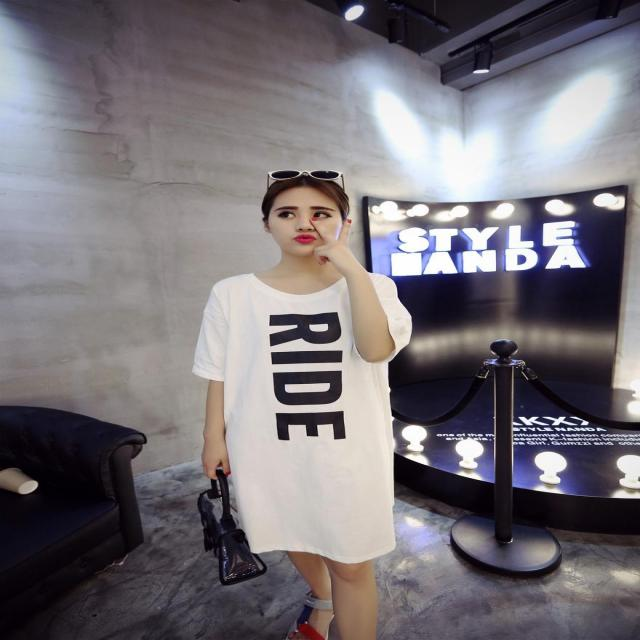short-sleeve-dress: (204, 268, 478, 561)
